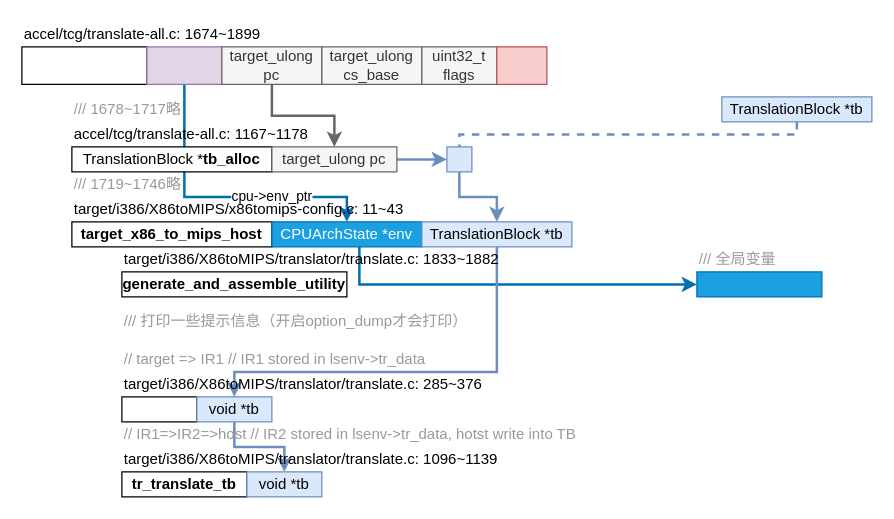
Some shapes in this 894 by 519 pixel diagram are drawn without their labels. Here are the shapes that lost their labels. From the top down, the centre of each, then its label:
At point (84, 65): "TranslationBlock * tb_gen_code".
At point (184, 65): "CPUState *cpu".
At point (521, 65): "int cflags".
At point (459, 159): "tb".
At point (759, 284): "lsenv->cpu_state".
At point (159, 409): "tr_disasm".
